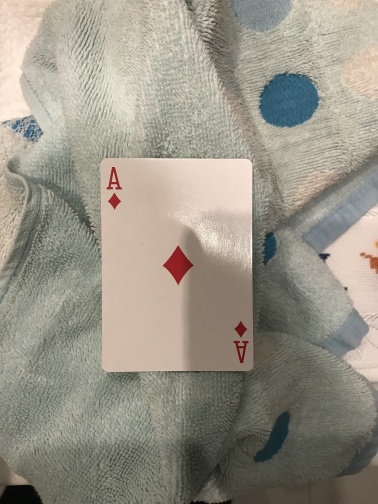ace: (98, 157, 254, 373)
